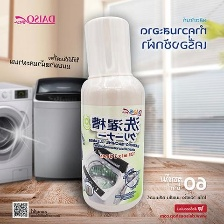cleaning_solution: (77, 12, 149, 215)
